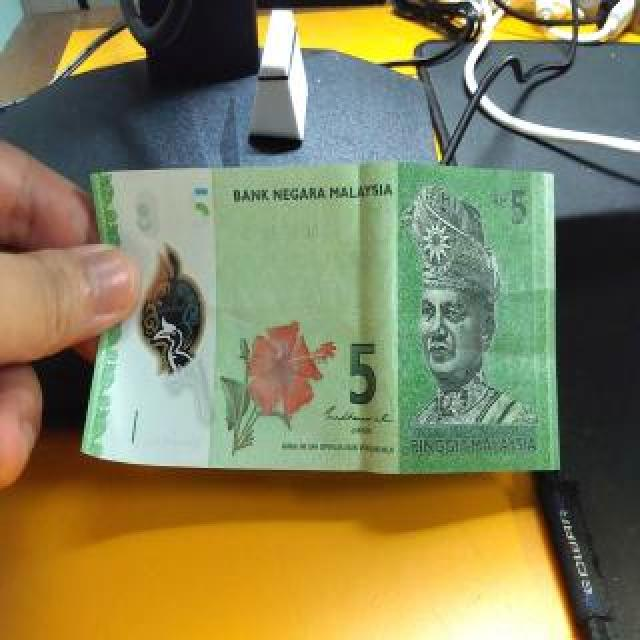5 Ringgit: (80, 164, 561, 482)
